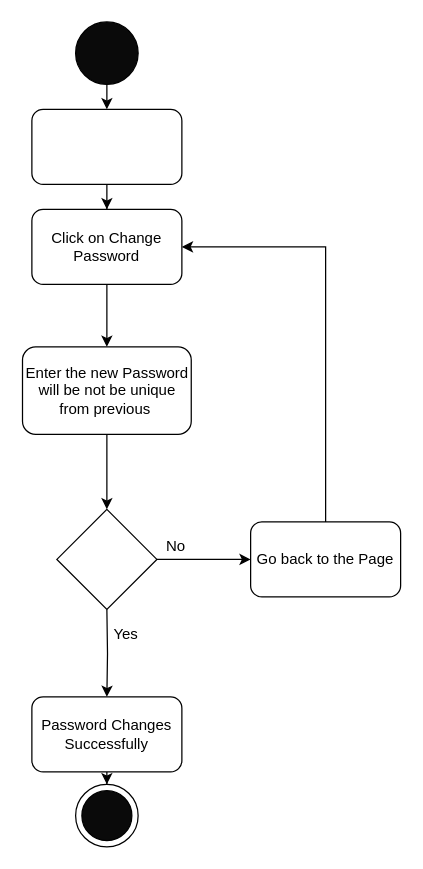
The diagram is 423 pixels wide and 869 high, and some of its shapes have lost their labels. The shapes that lost their labels are listed below. From the top down, each one's centre as x and y in pixels, then its label:
point 106,146: Go to Settings
point 106,558: Verification
